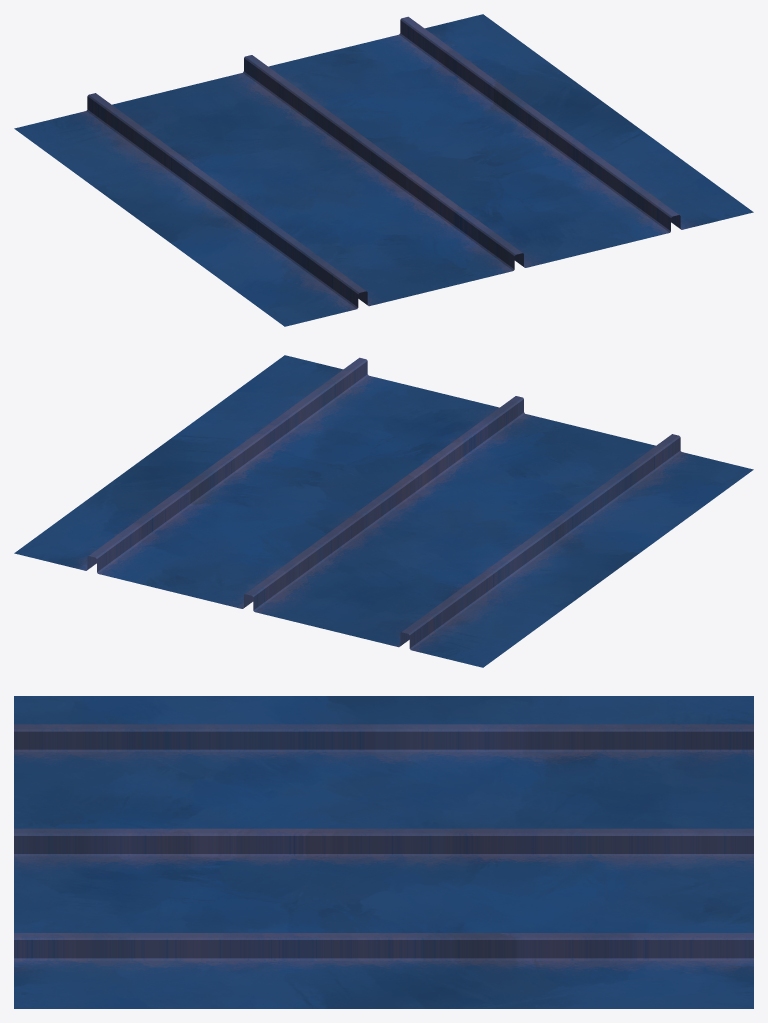
The model's file is The roof is straight.fbx.
3 views of the same model, one above another, from view 1: azimuth 30°, elevation 25°; view 2: azimuth 150°, elevation 25°; view 3: azimuth 270°, elevation 25° (orthographic). The views are drawn at different scales.
Visible parts, largest first — view 1: The roof is straight; view 2: The roof is straight; view 3: The roof is straight.
Boxes of the visible parts, x1=… form: The roof is straight: x1=14, y1=14, x2=753, y2=326; The roof is straight: x1=14, y1=355, x2=753, y2=667; The roof is straight: x1=14, y1=696, x2=753, y2=1008.
Bounding box in the file's own units: 200 × 6.39 × 200.
